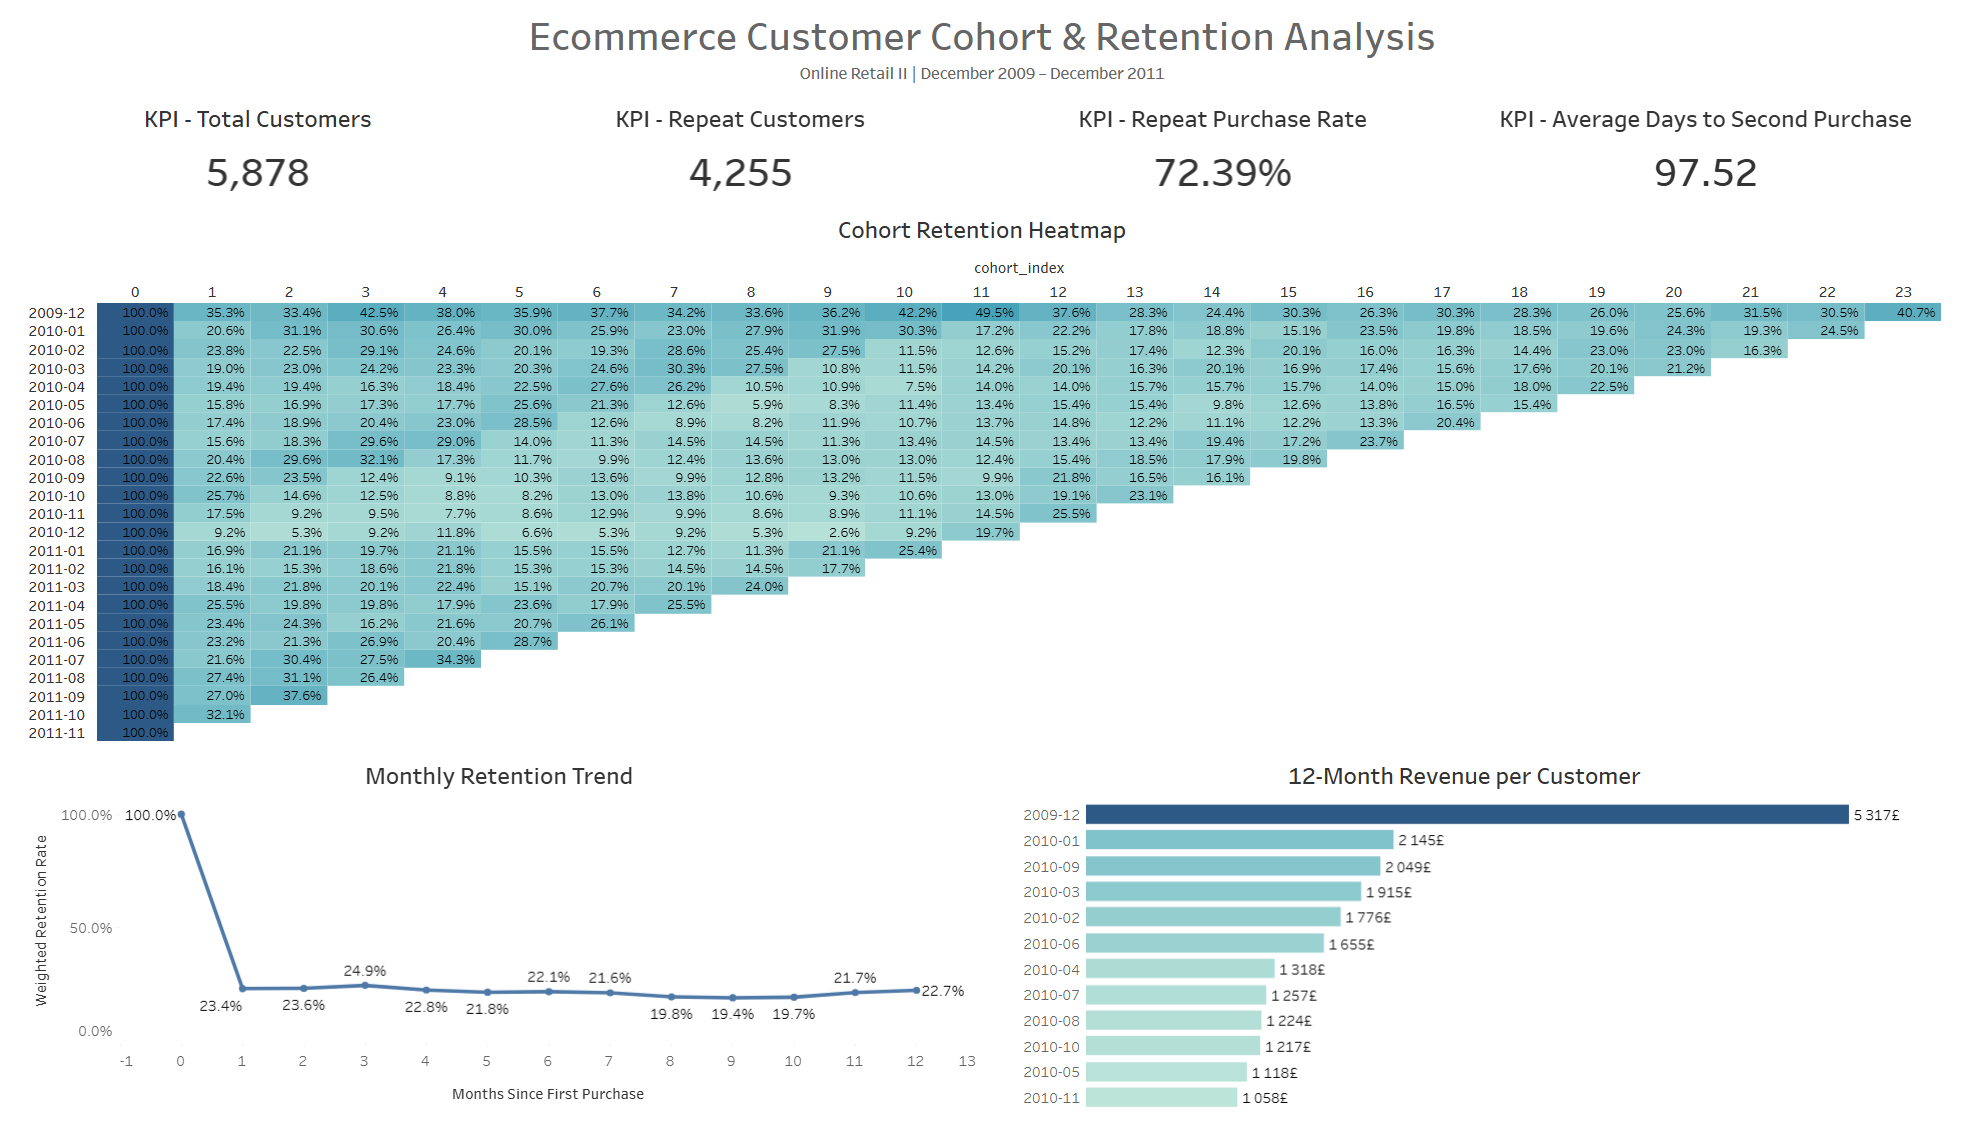

The dashboard page shown, as its layout file describes it:
{"tool":"tableau","page":{"name":"Customer Retention Dashboard","canvas":[1000,1000],"units":"permille","ordinal":0},"visuals":[{"type":"text","box":[4.3,8.2,991.4,78]},{"type":"worksheet","title":"KPI - Total Customers","mark":"Automatic","box":[4.3,86.2,247.7,97.5]},{"type":"worksheet","title":"KPI - Repeat Customers","mark":"Automatic","box":[252,86.2,248,97.5]},{"type":"worksheet","title":"KPI - Repeat Purchase Rate","mark":"Automatic","box":[500,86.2,247.7,97.5]},{"type":"worksheet","title":"KPI - Average Days to Second Purchase","mark":"Automatic","box":[747.7,86.2,248,97.5]},{"type":"worksheet","title":"Cohort Retention Heatmap","mark":"Square","rows":["cohort_label"],"cols":["cohort_index"],"box":[4.3,183.7,991.4,482.6]},{"type":"worksheet","title":"Monthly Retention Trend","mark":"Line","rows":["Calculation_0014615806435372"],"cols":["cohort_index"],"box":[4.3,666.3,495.7,325.5]},{"type":"worksheet","title":"12-Month Revenue per Customer","mark":"Automatic","rows":["cohort_label"],"cols":["cumulative_revenue_per_customer"],"box":[500,666.3,495.7,325.5]}]}

Visuals, with their boxes on the dashboard's canvas, which has no fixed pixel size, in thousandths of its width and height (x1, y1, x2, y2). These are canvas units, not pixel positions in the 1966x1122 screenshot, which may show the page scaled, cropped or inside an application window:
text: 4/8/996/86
"KPI - Total Customers" worksheet: 4/86/252/184
"KPI - Repeat Customers" worksheet: 252/86/500/184
"KPI - Repeat Purchase Rate" worksheet: 500/86/748/184
"KPI - Average Days to Second Purchase" worksheet: 748/86/996/184
"Cohort Retention Heatmap" worksheet (Square marks): 4/184/996/666
"Monthly Retention Trend" worksheet (Line marks): 4/666/500/992
"12-Month Revenue per Customer" worksheet: 500/666/996/992
